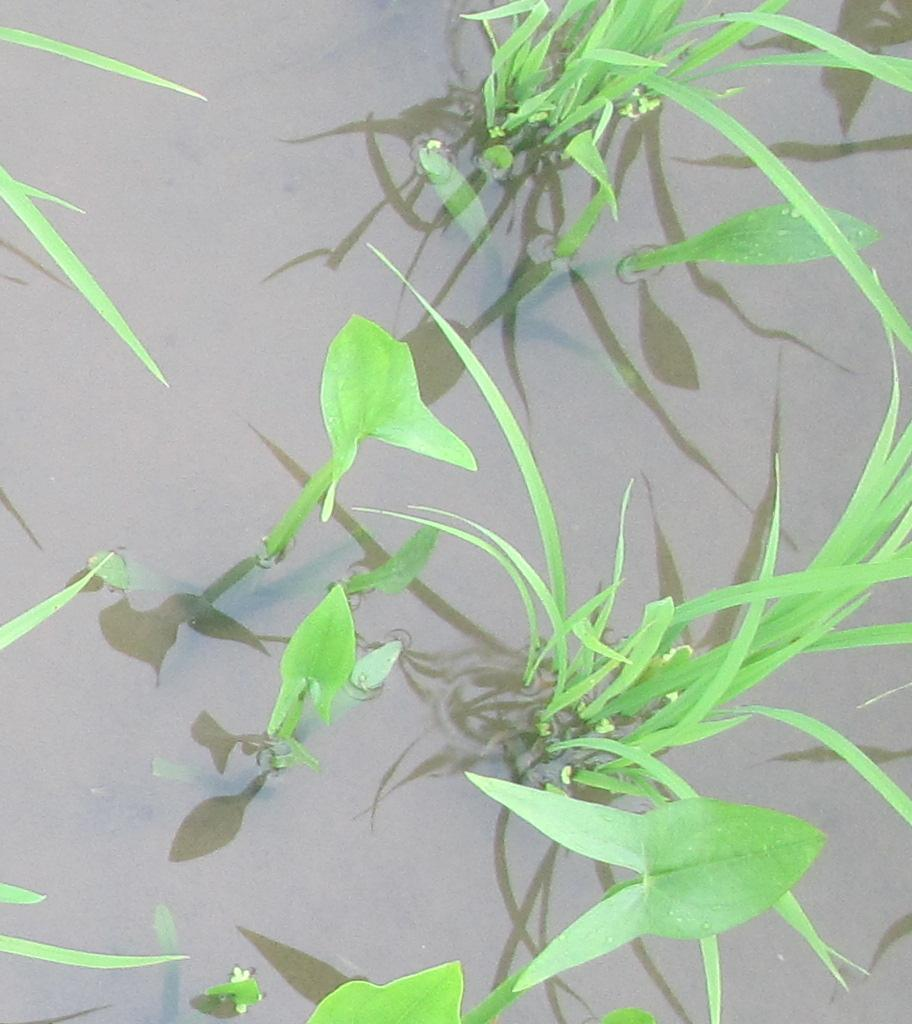Weed: (471, 775, 828, 985), (307, 305, 489, 505), (257, 577, 413, 749), (638, 196, 882, 289)
